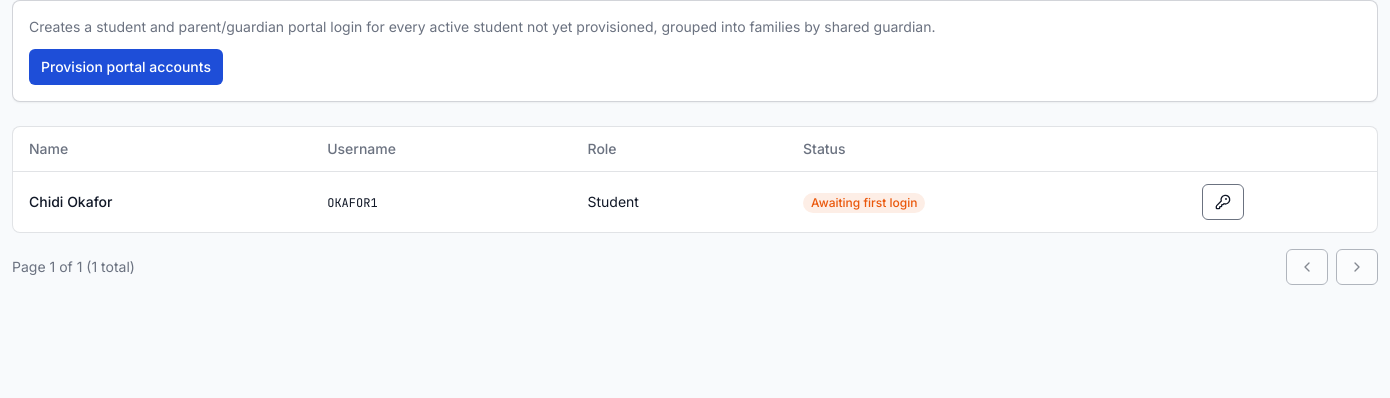
Test case: PortalAccountsSettingsPage › renders a 'no_primary_guardian_marked' warning through the same uniform path
What coordinates should you click on to do the following:
click the button "Provision portal accounts"
I would click on:
 (126, 67)
Its box is [29,49,223,85].
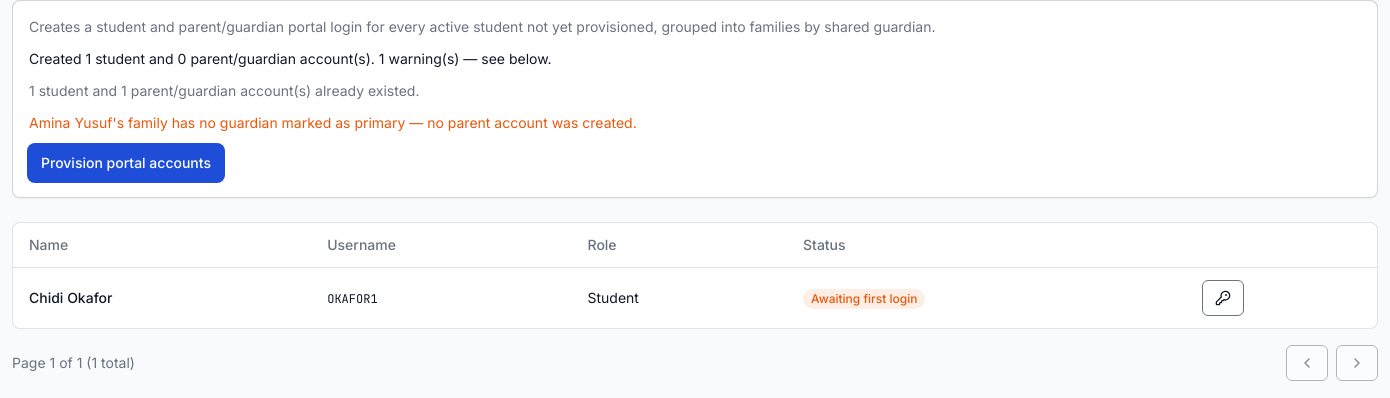
Check: the list item "Amina Yusuf's family has no guardian marked as primary — no parent account was created." is shown, box [29,114,637,131]
